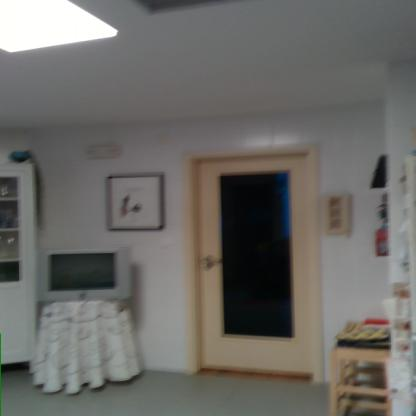closed: (178, 138, 325, 378)
